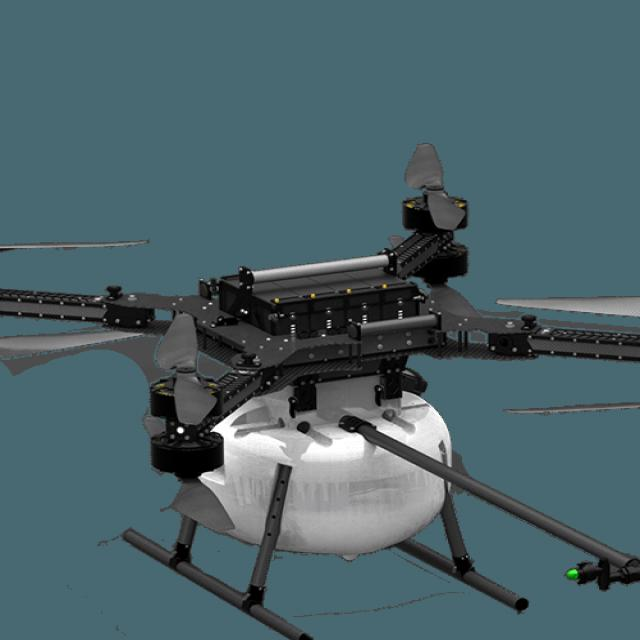drone: (0, 204, 640, 596)
